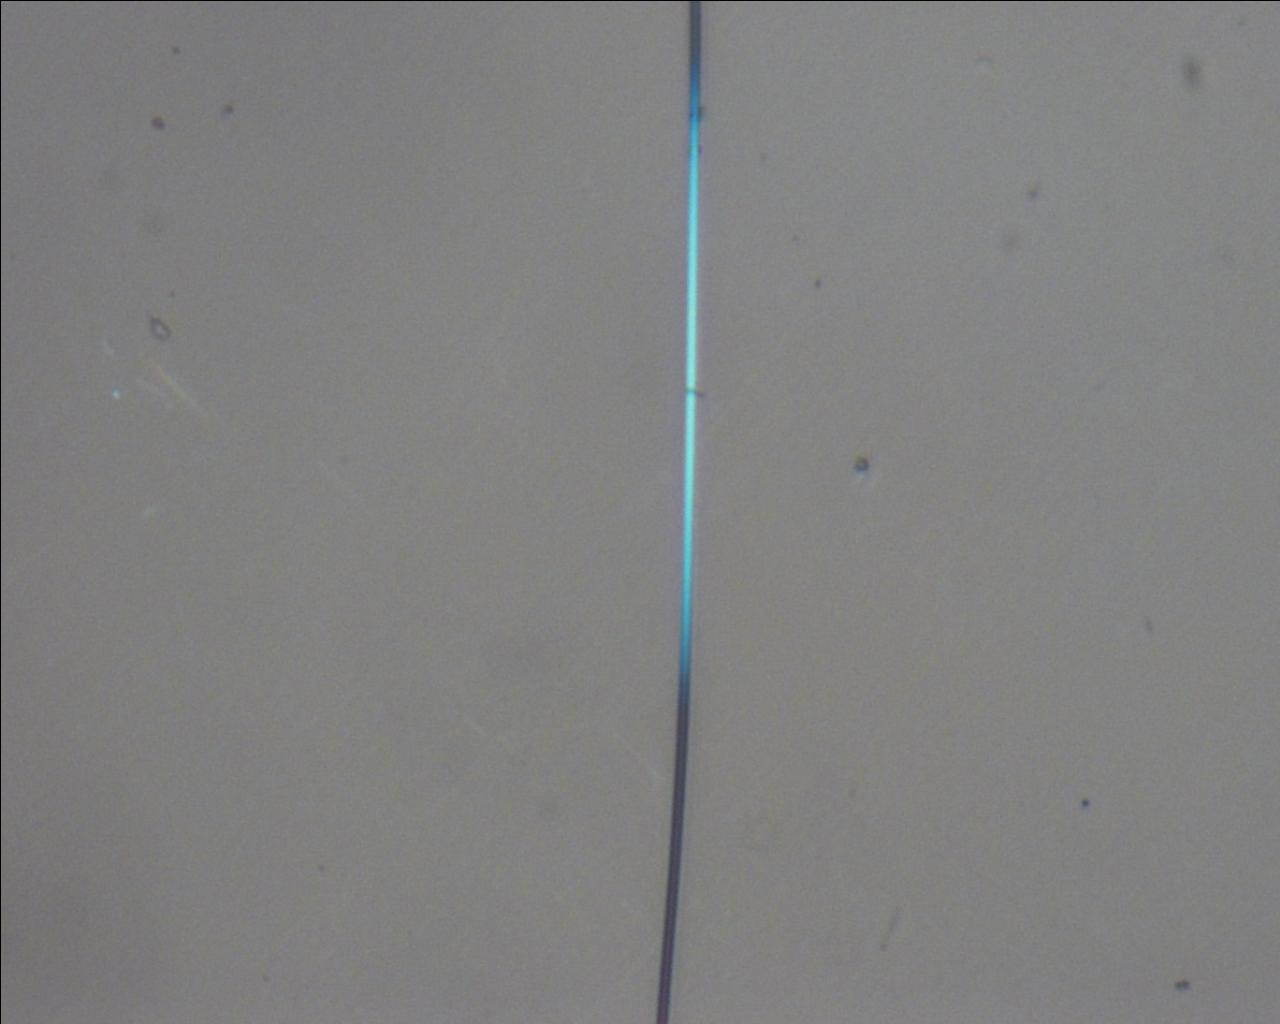fiber: (653, 0, 702, 1024)
